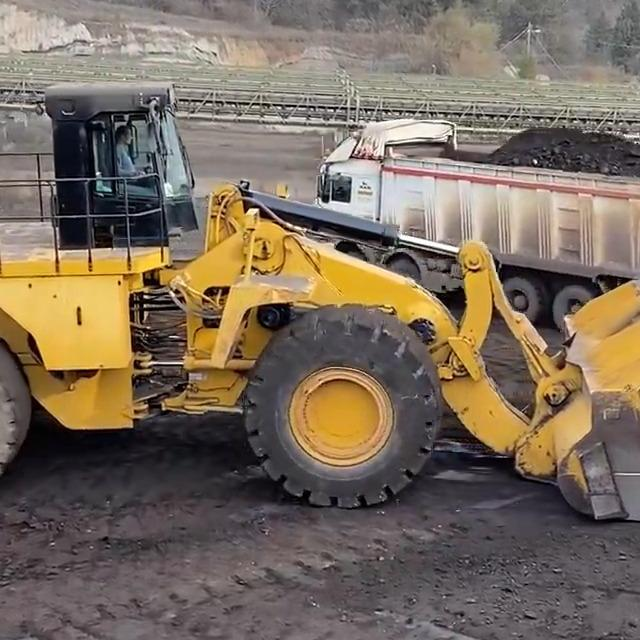NO-Hardhat: (115, 125, 131, 135)
NO-Mask: (123, 137, 133, 145)
NO-Safety Vest: (116, 151, 134, 173)
Person: (112, 124, 155, 184)
dump truck: (315, 109, 640, 326)
wheel loader: (0, 81, 640, 529)
